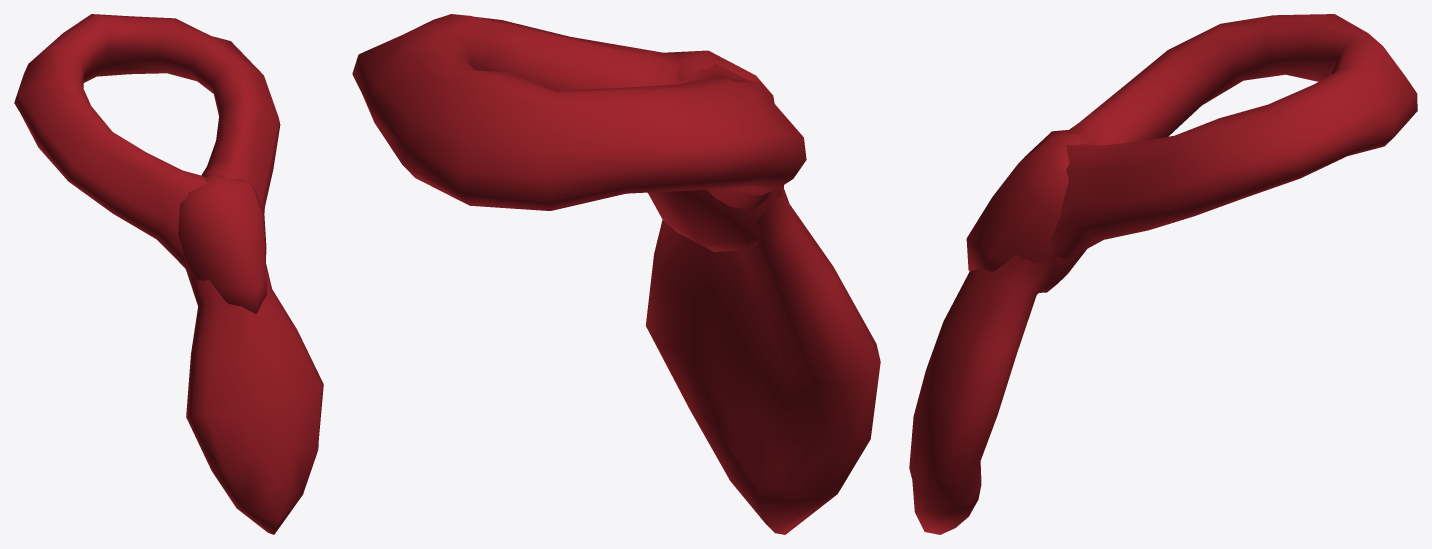
Rendered from MOUSE_FAT_NECKTIE.fbx.
The picture shows the model from 3 angles, left to right: view 1: azimuth 30°, elevation 25°; view 2: azimuth 150°, elevation 25°; view 3: azimuth 270°, elevation 25°; orthographic projection. The views are drawn at different scales.
Visible parts, largest first — view 1: NECKTIE_001; view 2: NECKTIE_001; view 3: NECKTIE_001.
Part boxes in pixels (x1,y1,x2,y2): NECKTIE_001: (14,14,323,534); NECKTIE_001: (352,14,880,534); NECKTIE_001: (909,14,1417,534).
Size of the model in its own units: 0.0625 by 0.1036 by 0.0968.
